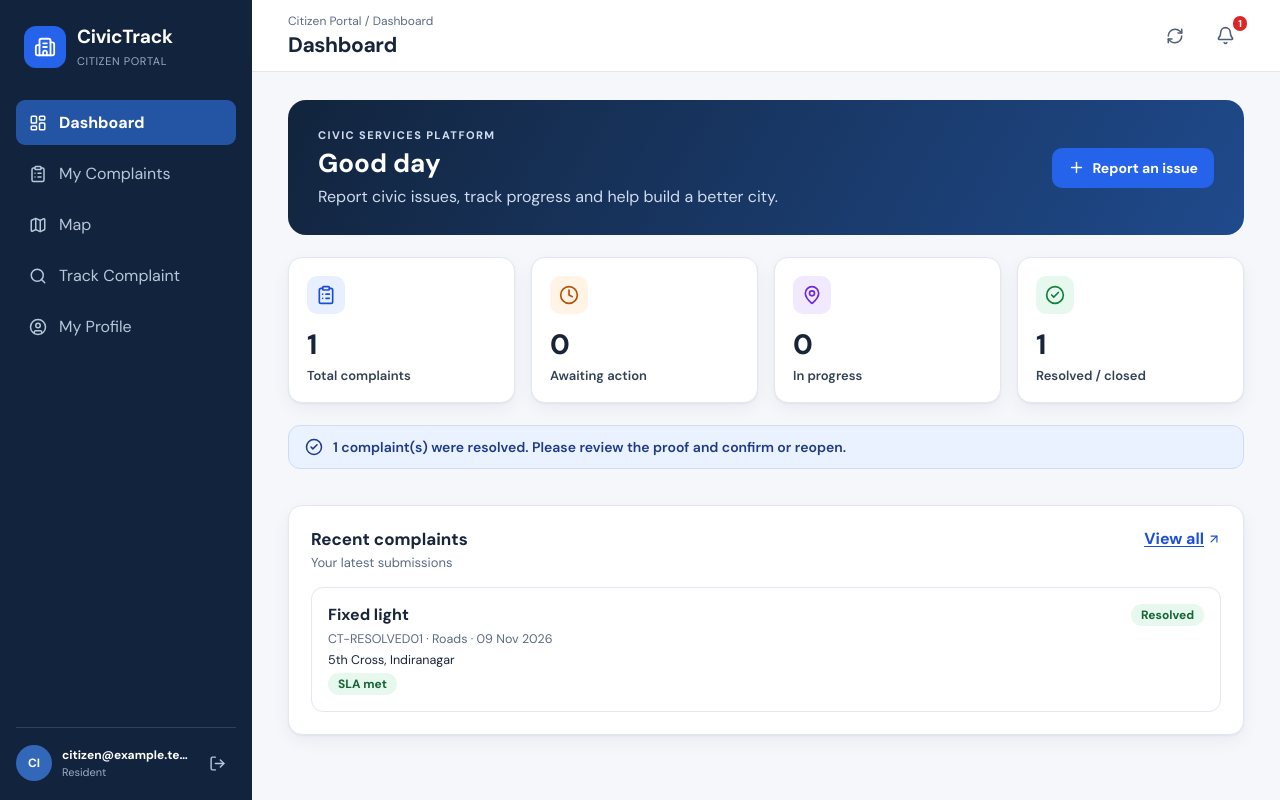
citizen portal › offers reopen/close only on resolved complaints and never admin actions
Click the button "Fixed light". click: (368, 614)
box: [316,592,1216,707]
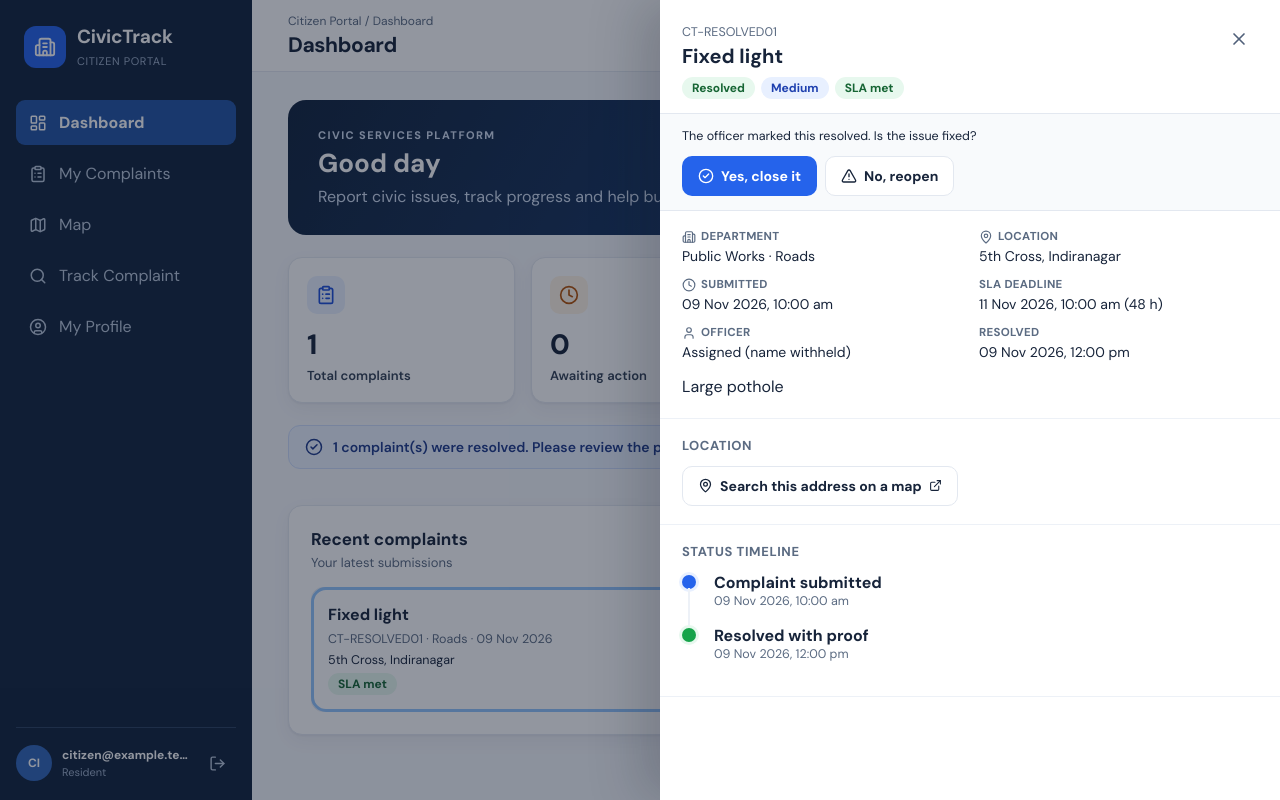
Check: the button "No, reopen" is shown, box [825,156,954,196]
